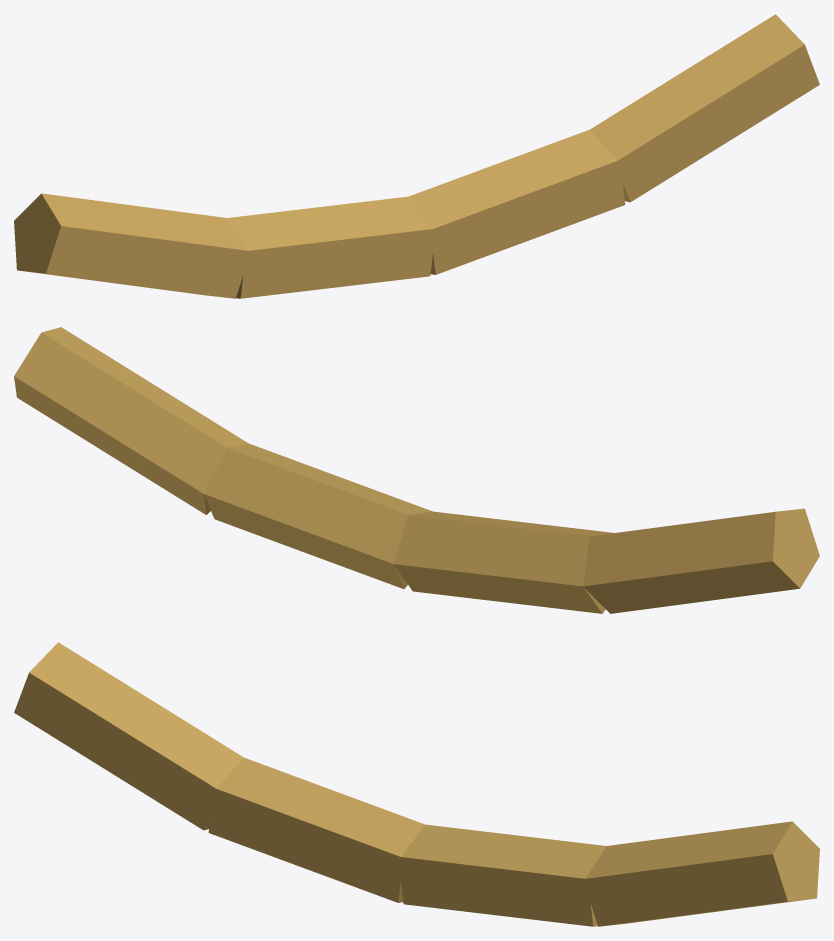
File: quay-line.glb
3 views of the same model, one above another, from view 1: azimuth 30°, elevation 25°; view 2: azimuth 150°, elevation 25°; view 3: azimuth 330°, elevation 25° (orthographic).
Parts seen in each view (by area): view 1: quay-line; view 2: quay-line; view 3: quay-line.
Part boxes in pixels (<box>): quay-line: <box>14,14,819,298</box>; quay-line: <box>14,327,819,613</box>; quay-line: <box>14,642,819,926</box>.
Bounding box in the file's own units: 1.03 × 0.212 × 0.0905.
Materials: 1 (1 with a texture image).
